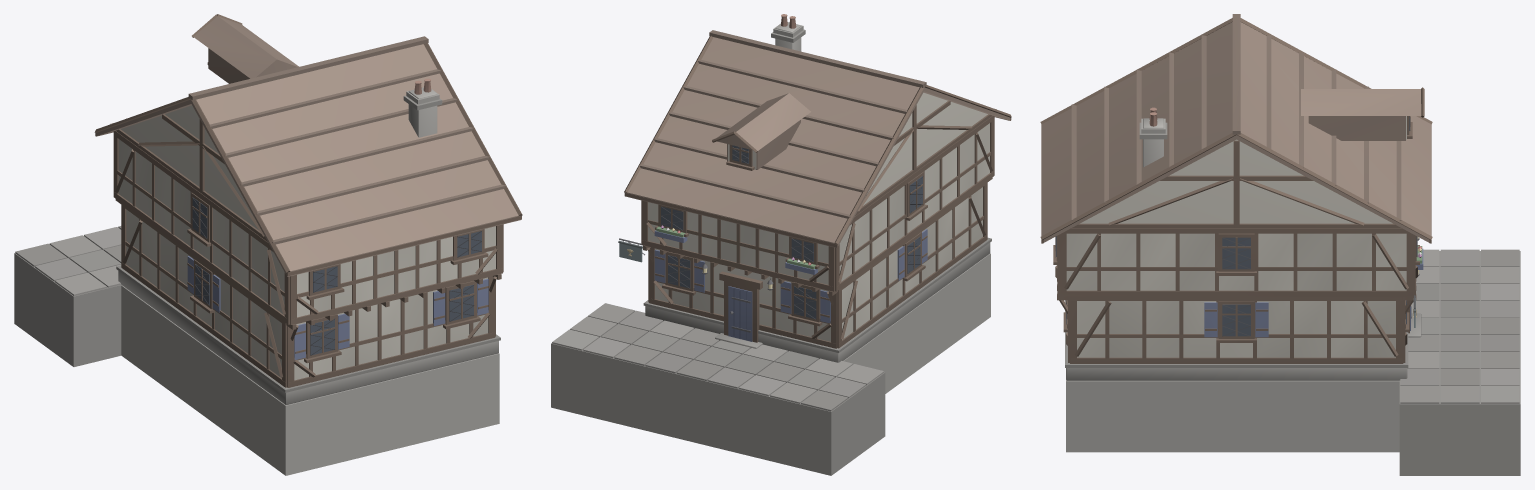
File: trophy_hall_2.gltf
3 views of the same model, side by side, from view 1: azimuth 30°, elevation 25°; view 2: azimuth 150°, elevation 25°; view 3: azimuth 270°, elevation 25° (orthographic). The views are drawn at different scales.
Visible parts, largest first — view 1: Body; view 2: Body; view 3: Body.
Boxes of the visible parts, bbox=[...] form: Body: bbox=[14, 14, 522, 475]; Body: bbox=[551, 14, 1011, 475]; Body: bbox=[1040, 14, 1520, 475].
Size of the model in its own units: 12 by 11.94 by 15.89.
